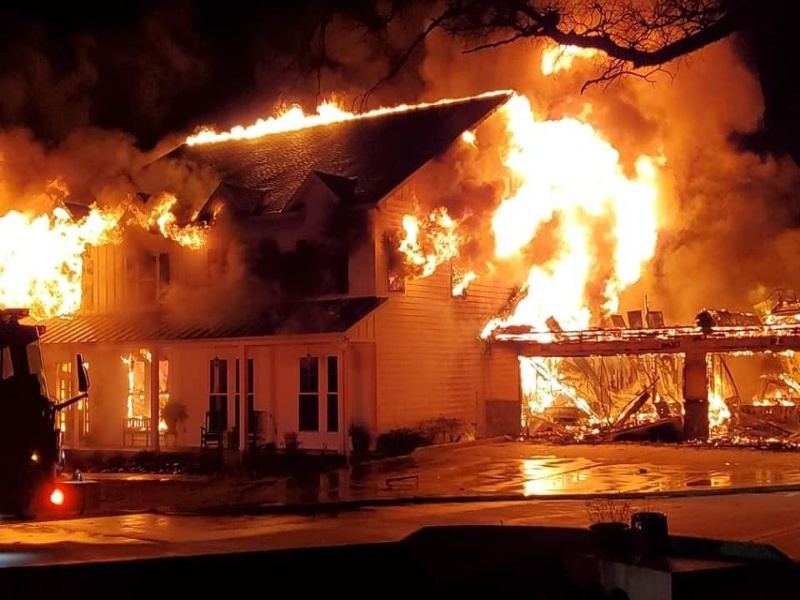fire: (499, 93, 675, 333), (1, 194, 121, 318), (387, 197, 461, 280), (521, 357, 590, 439), (133, 214, 223, 256), (538, 28, 604, 73), (266, 97, 342, 134), (181, 111, 257, 143), (356, 95, 419, 119), (703, 384, 735, 427), (444, 269, 486, 300), (124, 357, 142, 423)
